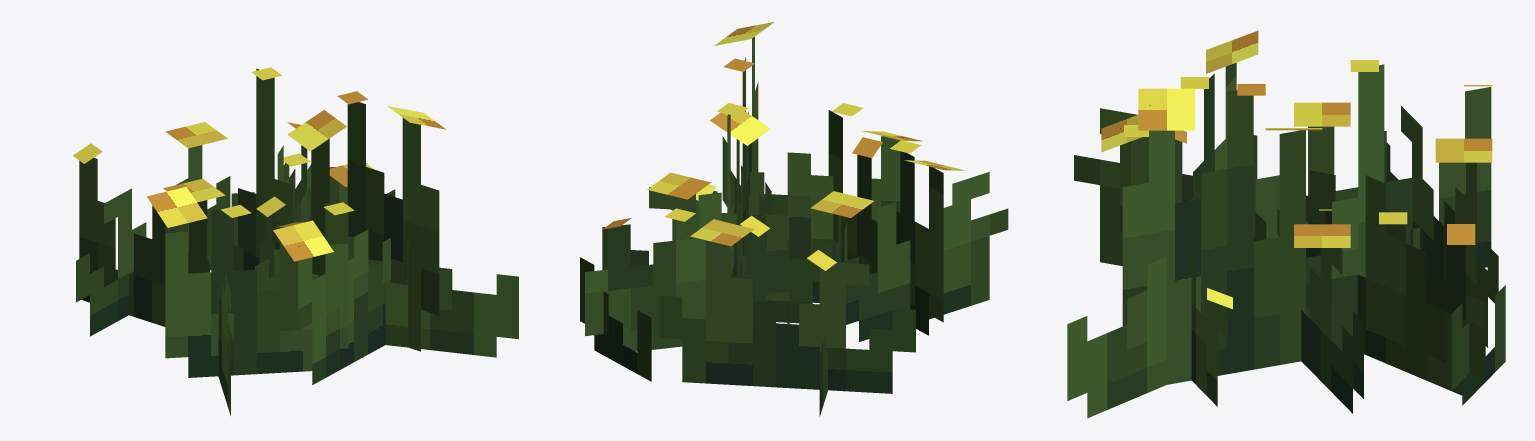
The model's file is flower-yellow-2.gltf.
The picture shows the model from 3 angles, left to right: view 1: azimuth 30°, elevation 25°; view 2: azimuth 150°, elevation 25°; view 3: azimuth 270°, elevation 25°; orthographic projection. The views are drawn at different scales.
Parts seen in each view (by area): view 1: cube (×18); view 2: cube (×16); view 3: cube (×18).
Boxes of the visible parts, x1,y1,x2,y2 form: cube (×18): (76,67,518,415); cube (×16): (580,22,1008,416); cube (×18): (1067,30,1505,418).
Size of the model in its own units: 1 by 0.706 by 1.
Materials: 1 (1 with a texture image).
